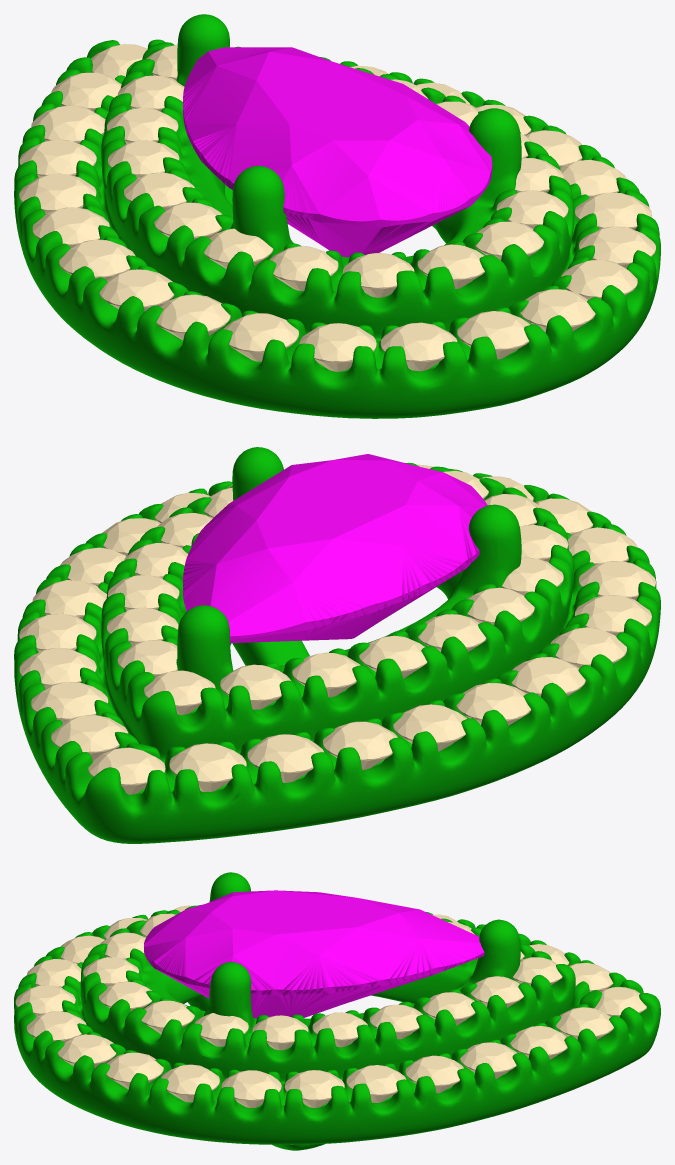
3 views of the same model, one above another, from view 1: azimuth 30°, elevation 25°; view 2: azimuth 150°, elevation 25°; view 3: azimuth 270°, elevation 25° (orthographic). The views are drawn at different scales.
Parts seen in each view (by area): view 1: Metal01, Diamond_Pear, Diamond_Round.040, Diamond_Round.041, Diamond_Round.039, Diamond_Round.038, Diamond_Round.018, Diamond_Round.037, Diamond_Round.019, Diamond_Round.036, Diamond_Round.020, Diamond_Round.034 (+22 smaller); view 2: Metal01, Diamond_Pear, Diamond_Round.031, Diamond_Round.032, Diamond_Round.033, Diamond_Round.034, Diamond_Round.035, Diamond_Round.029, Diamond_Round.037, Diamond_Round.036, Diamond_Round.028, Diamond_Round.030 (+24 smaller); view 3: Metal01, Diamond_Pear, Diamond_Round.023, Diamond_Round.024, Diamond_Round.022, Diamond_Round.025, Diamond_Round.026, Diamond_Round.021, Diamond_Round.027, Diamond_Round.029, Diamond_Round.020, Diamond_Round.028 (+17 smaller).
Part boxes in pixels (box(x1,y1,x2,y2)): Metal01: box(14, 14, 660, 418); Diamond_Pear: box(183, 47, 492, 257); Diamond_Round.040: box(299, 323, 376, 371); Diamond_Round.041: box(380, 322, 457, 371); Diamond_Round.039: box(223, 313, 298, 361); Diamond_Round.038: box(156, 294, 230, 340); Diamond_Round.018: box(457, 311, 530, 359); Diamond_Round.037: box(99, 269, 174, 311); Diamond_Round.019: box(520, 289, 595, 332); Diamond_Round.036: box(59, 239, 135, 280); Diamond_Round.020: box(561, 259, 637, 299); Diamond_Round.034: box(19, 173, 96, 214); Metal01: box(14, 447, 660, 843); Diamond_Pear: box(183, 454, 487, 643); Diamond_Round.031: box(169, 743, 246, 791); Diamond_Round.032: box(247, 734, 323, 782); Diamond_Round.033: box(323, 721, 397, 770); Diamond_Round.034: box(393, 704, 466, 751); Diamond_Round.035: box(456, 683, 531, 725); Diamond_Round.029: box(51, 715, 128, 760); Diamond_Round.037: box(550, 627, 626, 668); Diamond_Round.036: box(511, 657, 585, 696); Diamond_Round.028: box(31, 682, 108, 722); Diamond_Round.030: box(88, 747, 165, 794); Metal01: box(14, 872, 660, 1150); Diamond_Pear: box(144, 890, 484, 1018); Diamond_Round.023: box(221, 1070, 281, 1107); Diamond_Round.024: box(284, 1070, 344, 1107); Diamond_Round.022: box(161, 1064, 219, 1102); Diamond_Round.025: box(346, 1065, 406, 1102); Diamond_Round.026: box(405, 1055, 463, 1093); Diamond_Round.021: box(106, 1052, 163, 1089); Diamond_Round.027: box(460, 1042, 517, 1078); Diamond_Round.029: box(556, 1007, 613, 1039); Diamond_Round.020: box(57, 1034, 116, 1067); Diamond_Round.028: box(510, 1026, 567, 1059).
Size of the model in its own units: 11.05 by 5.99 by 15.1.
